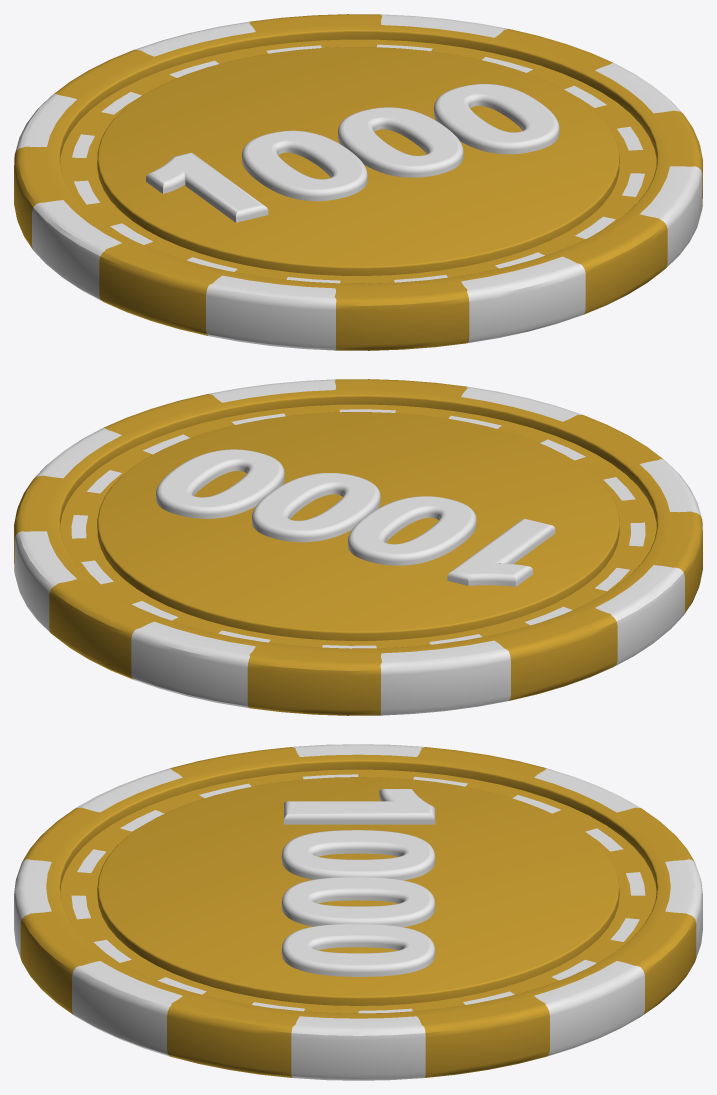
3 views of the same model, one above another, from view 1: azimuth 30°, elevation 25°; view 2: azimuth 150°, elevation 25°; view 3: azimuth 270°, elevation 25° (orthographic).
Visible parts, largest first — view 1: Chip; view 2: Chip; view 3: Chip.
Part boxes in pixels (<box>): Chip: <box>14,14,702,350</box>; Chip: <box>14,379,702,715</box>; Chip: <box>14,744,702,1080</box>.
Size of the model in its own units: 8.02 by 0.9115 by 8.02.
